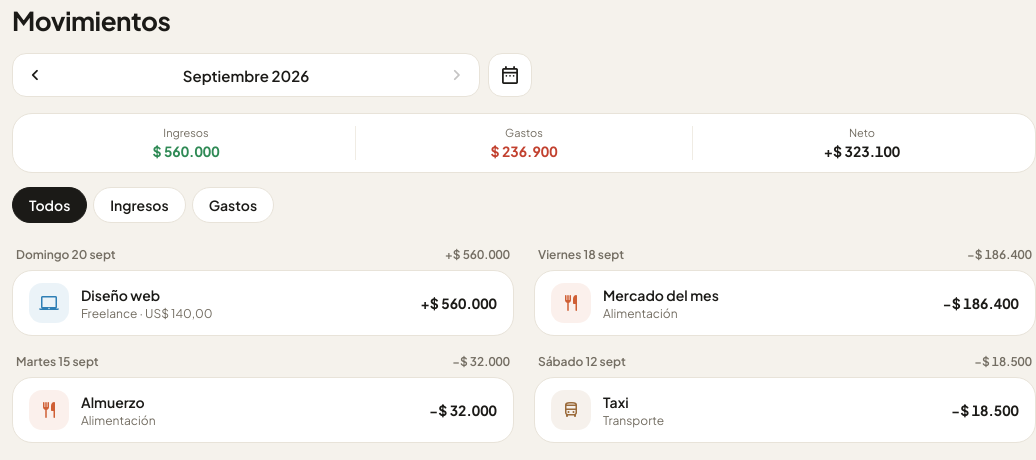
Test case: Movimientos › un periodo sin movimientos ensena su hueco
Click the button named "Mes anterior": (35, 75) [17,54,53,96]
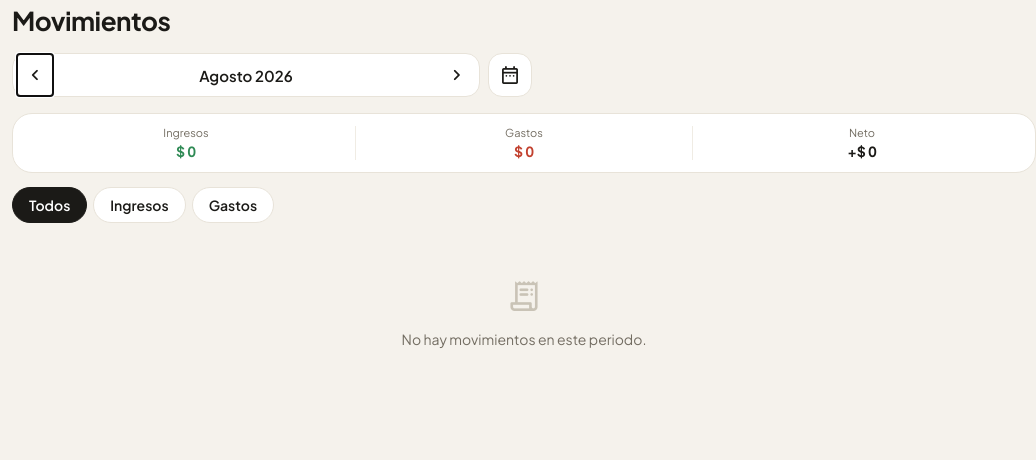
Expected: the text "No hay movimientos en este periodo." is shown, [402,274,646,348]
